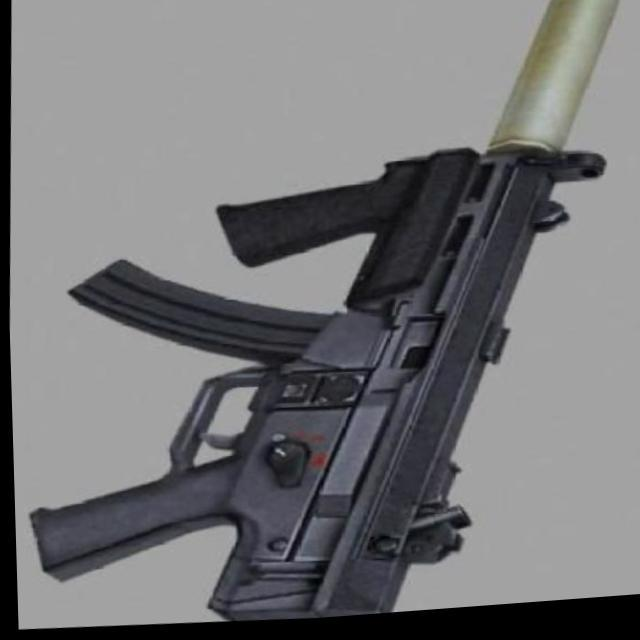weapon: (9, 0, 636, 639)
